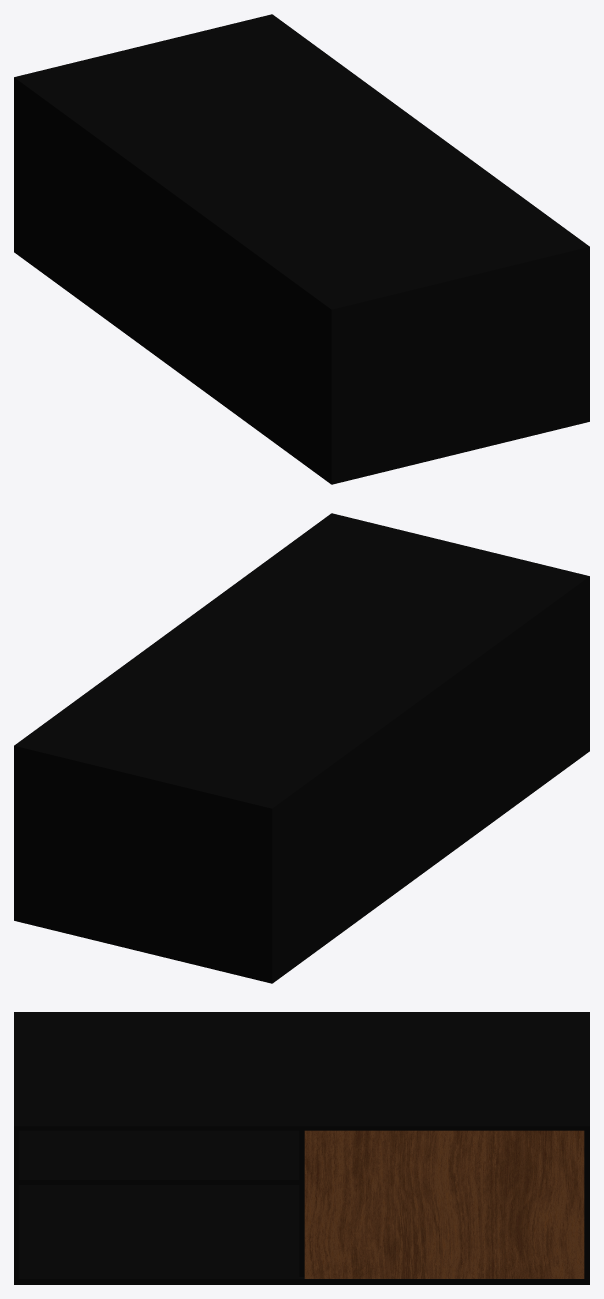
The model's file is Table.fbx.
3 views of the same model, one above another, from view 1: azimuth 30°, elevation 25°; view 2: azimuth 150°, elevation 25°; view 3: azimuth 270°, elevation 25° (orthographic). The views are drawn at different scales.
Parts seen in each view (by area): view 1: Table; view 2: Table; view 3: Table.
Part boxes in pixels (box(x1,y1,x2,y2)): Table: box(14, 14, 589, 484); Table: box(14, 513, 589, 983); Table: box(14, 1012, 589, 1284).
Size of the model in its own units: 115 by 78.99 by 244.
